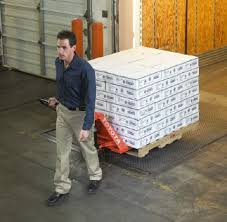Pallet Jack: (39, 96, 186, 159)
